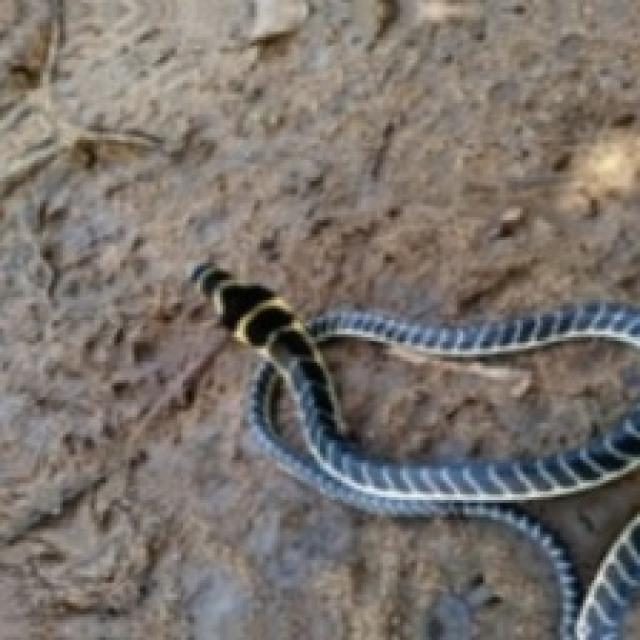king cobra: (191, 263, 637, 637), (320, 337, 431, 460)
